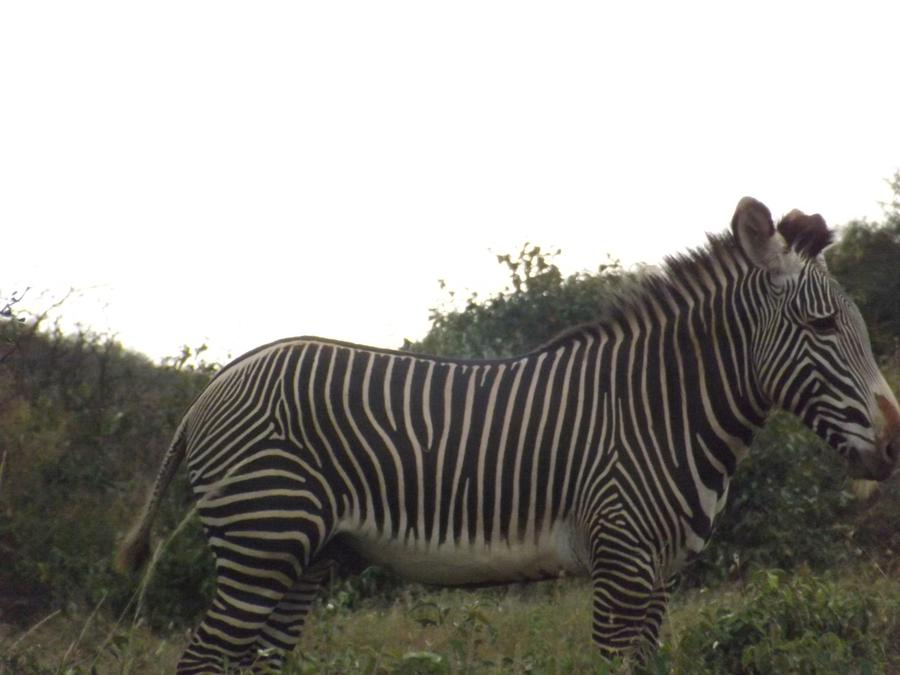zebra_grevys: (184, 338, 692, 562)
